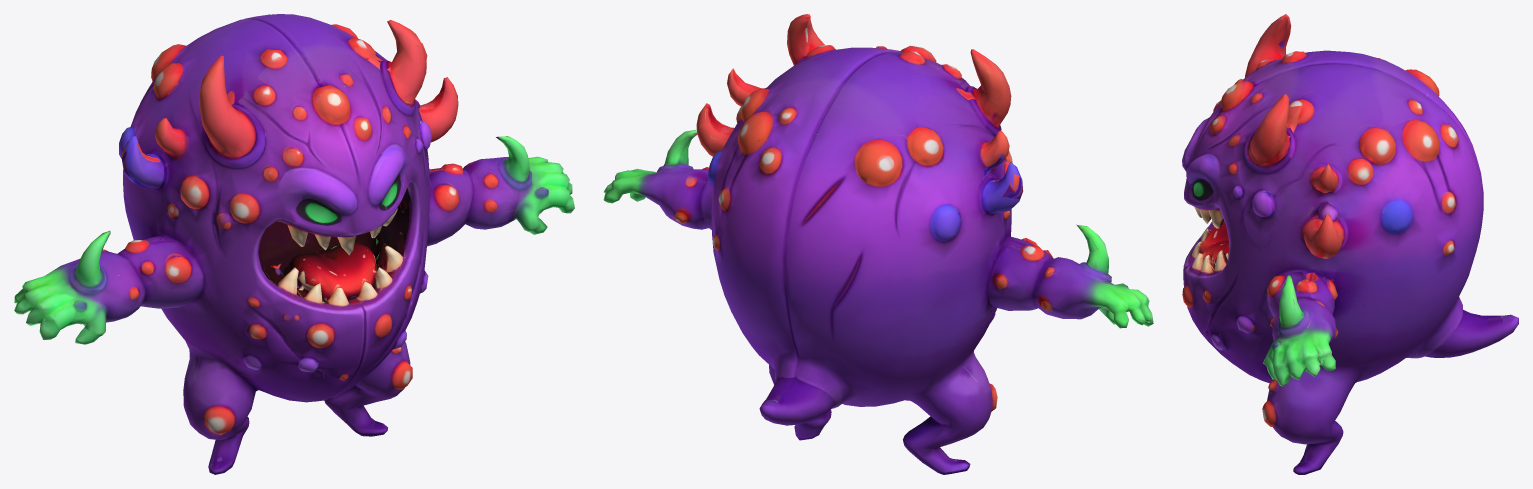
File: Meshy_AI_Bubblehorn_Beast_0128113848_texture.fbx
3 renders of one model, left to right at view 1: azimuth 30°, elevation 25°; view 2: azimuth 150°, elevation 25°; view 3: azimuth 270°, elevation 25°, orthographic. The views are drawn at different scales.
Parts seen in each view (by area): view 1: Mesh1.0; view 2: Mesh1.0; view 3: Mesh1.0.
Boxes of the visible parts, x1,y1,x2,y2 form: Mesh1.0: (14,14,574,474); Mesh1.0: (603,14,1153,474); Mesh1.0: (1182,14,1518,474).
Size of the model in its own units: 191 by 141 by 111.
1 material, 1 textured.
